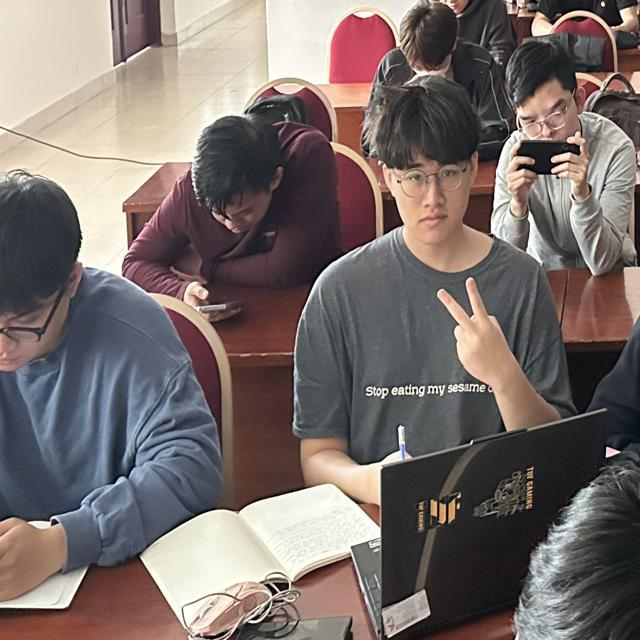Looking away: (0, 171, 93, 407), (392, 0, 469, 82)
Looking forward: (368, 77, 483, 257)
Phone use: (156, 111, 293, 332), (492, 33, 608, 190)
